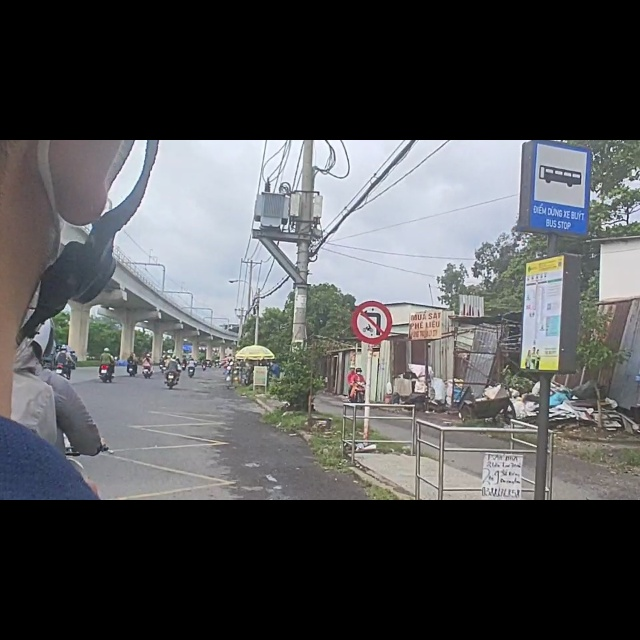bien_cam: (521, 1, 589, 175), (350, 284, 394, 365)
